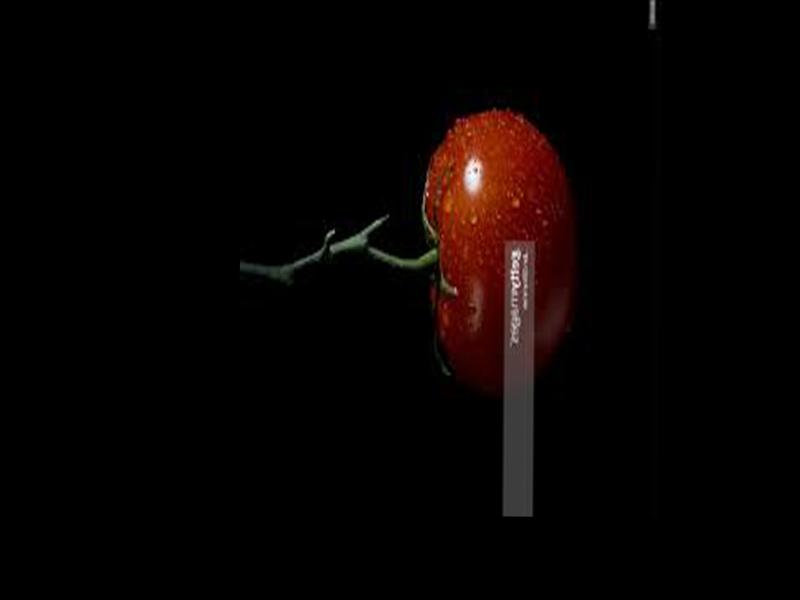Tomato: (425, 110, 573, 384)
